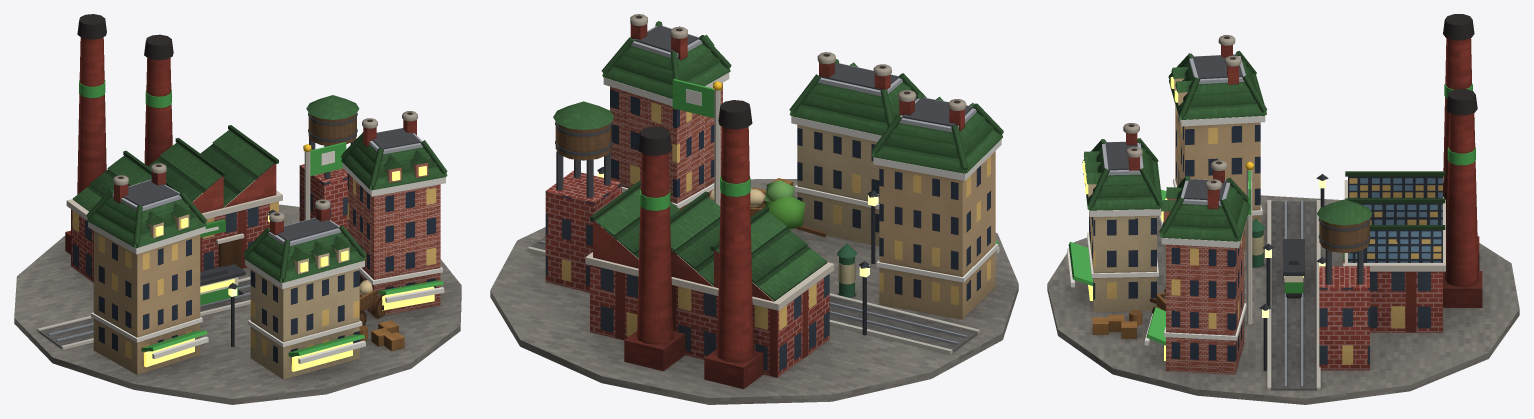
File: city_dl5_green.glb
The picture shows the model from 3 angles, left to right: view 1: azimuth 30°, elevation 25°; view 2: azimuth 150°, elevation 25°; view 3: azimuth 270°, elevation 25°; orthographic projection. The views are drawn at different scales.
Parts seen in each view (by area): view 1: city_dl5_green; view 2: city_dl5_green; view 3: city_dl5_green.
Boxes of the visible parts, x1,y1,x2,y2 form: city_dl5_green: (14,14,461,404); city_dl5_green: (490,14,1018,404); city_dl5_green: (1047,14,1519,404).
Bounding box in the file's own units: 1.52 × 0.875 × 1.49.
3 materials, 1 textured.
